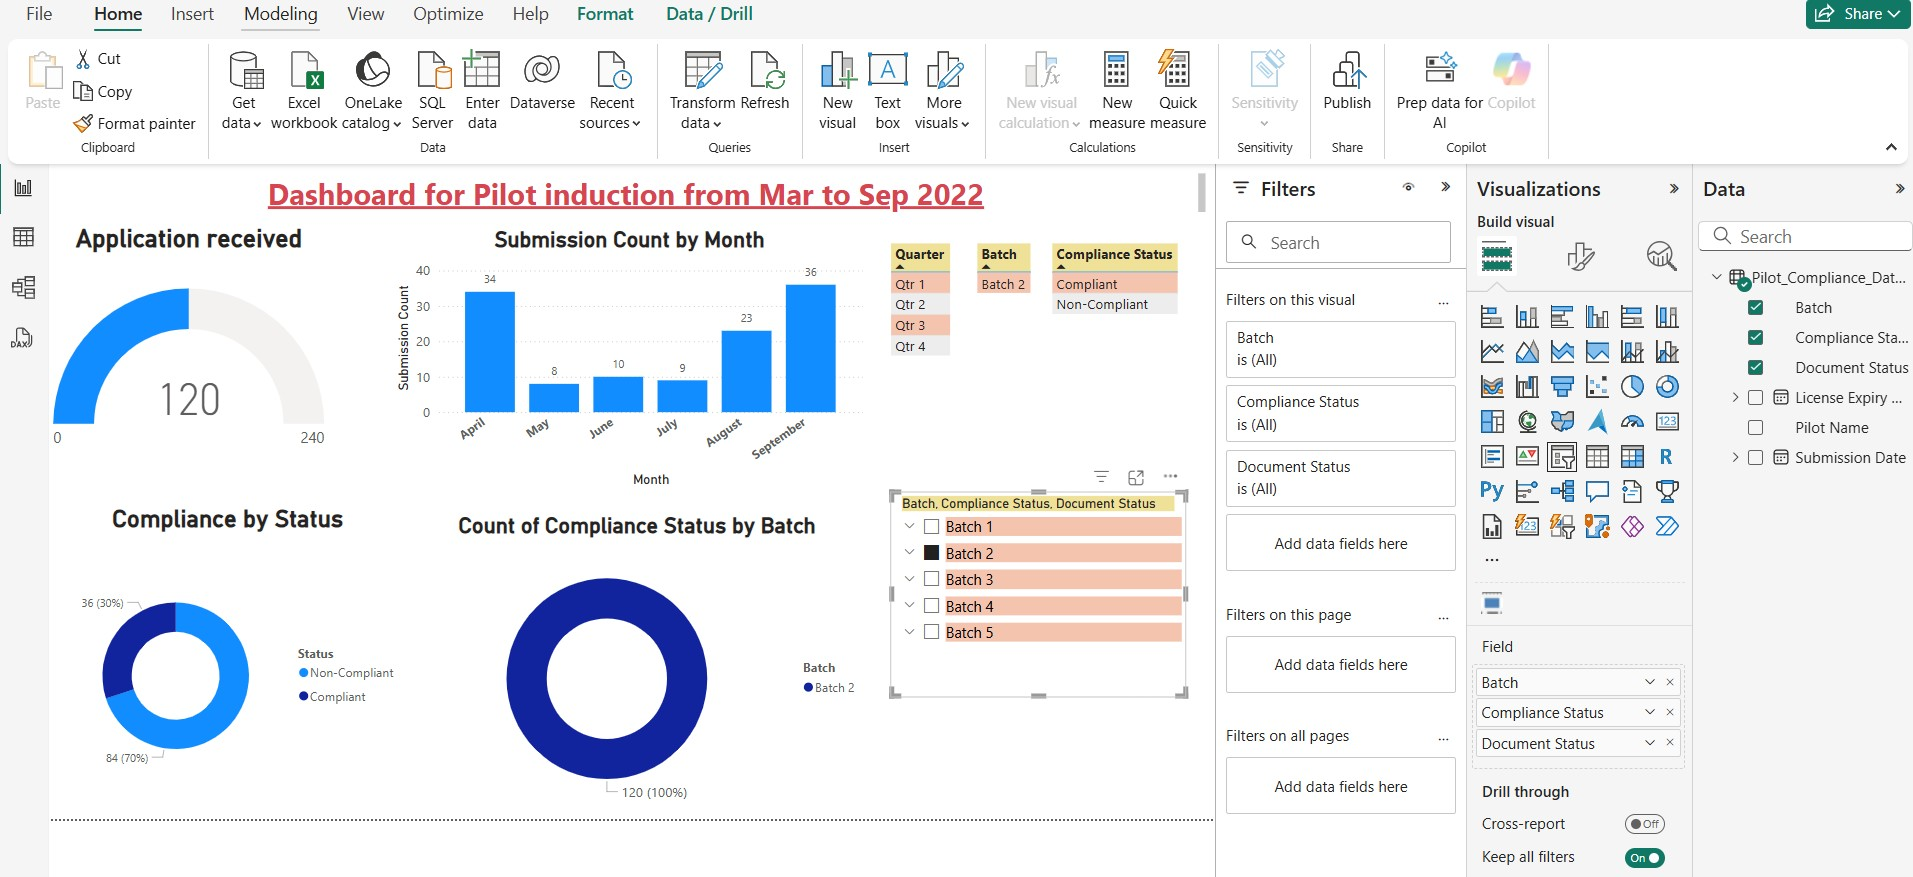

The dashboard page shown, as its layout file describes it:
{"tool":"powerbi","page":{"name":"Page 1","canvas":[1280,720],"ordinal":0},"visuals":[{"type":"donutChart","fields":{"Category":["export?format=csv&id=1RSt7JTLuaaMvQIgaXB1fvxA7Anrv1DO8XRaBTItq9nI&gid=177511 (2).Compliance Status"],"Y":["CountNonNull(export?format=csv&id=1RSt7JTLuaaMvQIgaXB1fvxA7Anrv1DO8XRaBTItq9nI&gid=177511 (2).Compliance Status)"]},"box":[0,373.2,392.5,347.2],"z":0},{"type":"columnChart","fields":{"Category":["export?format=csv&id=1RSt7JTLuaaMvQIgaXB1fvxA7Anrv1DO8XRaBTItq9nI&gid=177511 (2).Submission Date.Variation.Date Hierarch"],"Y":["CountNonNull(export?format=csv&id=1RSt7JTLuaaMvQIgaXB1fvxA7Anrv1DO8XRaBTItq9nI&gid=177511 (2).Submission Date)"]},"box":[376,68.6,522.8,290.9],"z":1000},{"type":"gauge","fields":{"Y":["CountNonNull(export?format=csv&id=1RSt7JTLuaaMvQIgaXB1fvxA7Anrv1DO8XRaBTItq9nI&gid=177511 (2).Submission Date)"]},"box":[0,65.9,307.4,290.9],"z":2000},{"type":"tableEx","fields":{"Values":["export?format=csv&id=1RSt7JTLuaaMvQIgaXB1fvxA7Anrv1DO8XRaBTItq9nI&gid=177511 (2).Compliance Status"]},"box":[1095,82.9,174.3,104.3],"z":3000},{"type":"slicer","fields":{"Values":["export?format=csv&id=1RSt7JTLuaaMvQIgaXB1fvxA7Anrv1DO8XRaBTItq9nI&gid=177511 (2).Batch","export?format=csv&id=1RSt7JTLuaaMvQIgaXB1fvxA7Anrv1DO8XRaBTItq9nI&gid=177511 (2).Compliance Status","export?format=csv&id=1RSt7JTLuaaMvQIgaXB1fvxA7Anrv1DO8XRaBTItq9nI&gid=177511 (2).Aircraft Rating"]},"box":[923.5,359.5,325.2,226.4],"z":4000},{"type":"tableEx","fields":{"Values":["export?format=csv&id=1RSt7JTLuaaMvQIgaXB1fvxA7Anrv1DO8XRaBTItq9nI&gid=177511 (2).Batch"]},"box":[1012.7,82.9,87.8,168.8],"z":5000},{"type":"donutChart","fields":{"Category":["export?format=csv&id=1RSt7JTLuaaMvQIgaXB1fvxA7Anrv1DO8XRaBTItq9nI&gid=177511 (2).Compliance Status"],"Y":["CountNonNull(export?format=csv&id=1RSt7JTLuaaMvQIgaXB1fvxA7Anrv1DO8XRaBTItq9nI&gid=177511 (2).Batch)","CountNonNull(export?format=csv&id=1RSt7JTLuaaMvQIgaXB1fvxA7Anrv1DO8XRaBTItq9nI&gid=177511 (2).Compliance Status)"]},"box":[392.5,382.8,506.3,337.6],"z":6000},{"type":"tableEx","fields":{"Values":["export?format=csv&id=1RSt7JTLuaaMvQIgaXB1fvxA7Anrv1DO8XRaBTItq9nI&gid=177511 (2).Submission Date.Variation.Date Hierarch"]},"box":[918,82.9,94.7,152.3],"z":7000},{"type":"textbox","box":[0,5.5,1274.8,60.4],"z":8000},{"type":"tableEx","fields":{"Values":["export?format=csv&id=1RSt7JTLuaaMvQIgaXB1fvxA7Anrv1DO8XRaBTItq9nI&gid=177511 (2).Aircraft Rating"]},"box":[1100.5,186.6,148.2,152.3],"z":9000},{"type":"actionButton","box":[0,0,100,40],"z":10000}]}

Visuals, with their boxes on the page's 1280x720 design canvas (x1, y1, x2, y2). These are canvas units, not pixel positions in the 1913x877 screenshot, which may show the page scaled, cropped or inside an application window:
donutChart - export?format=csv&id=1RSt7JTLuaaMvQIgaXB1fvxA7Anrv1DO8XRaBTItq9nI&gid=177511 (2).Compliance Status x CountNonNull(export?format=csv&id=1RSt7JTLuaaMvQIgaXB1fvxA7Anrv1DO8XRaBTItq9nI&gid=177511 (2).Compliance Status): left=0, top=373, right=392, bottom=720
columnChart - export?format=csv&id=1RSt7JTLuaaMvQIgaXB1fvxA7Anrv1DO8XRaBTItq9nI&gid=177511 (2).Submission Date.Variation.Date Hierarch x CountNonNull(export?format=csv&id=1RSt7JTLuaaMvQIgaXB1fvxA7Anrv1DO8XRaBTItq9nI&gid=177511 (2).Submission Date): left=376, top=69, right=899, bottom=360
gauge - CountNonNull(export?format=csv&id=1RSt7JTLuaaMvQIgaXB1fvxA7Anrv1DO8XRaBTItq9nI&gid=177511 (2).Submission Date): left=0, top=66, right=307, bottom=357
tableEx - export?format=csv&id=1RSt7JTLuaaMvQIgaXB1fvxA7Anrv1DO8XRaBTItq9nI&gid=177511 (2).Compliance Status: left=1095, top=83, right=1269, bottom=187
slicer - export?format=csv&id=1RSt7JTLuaaMvQIgaXB1fvxA7Anrv1DO8XRaBTItq9nI&gid=177511 (2).Batch x export?format=csv&id=1RSt7JTLuaaMvQIgaXB1fvxA7Anrv1DO8XRaBTItq9nI&gid=177511 (2).Compliance Status: left=924, top=360, right=1249, bottom=586
tableEx - export?format=csv&id=1RSt7JTLuaaMvQIgaXB1fvxA7Anrv1DO8XRaBTItq9nI&gid=177511 (2).Batch: left=1013, top=83, right=1100, bottom=252
donutChart - export?format=csv&id=1RSt7JTLuaaMvQIgaXB1fvxA7Anrv1DO8XRaBTItq9nI&gid=177511 (2).Compliance Status x CountNonNull(export?format=csv&id=1RSt7JTLuaaMvQIgaXB1fvxA7Anrv1DO8XRaBTItq9nI&gid=177511 (2).Batch): left=392, top=383, right=899, bottom=720
tableEx - export?format=csv&id=1RSt7JTLuaaMvQIgaXB1fvxA7Anrv1DO8XRaBTItq9nI&gid=177511 (2).Submission Date.Variation.Date Hierarch: left=918, top=83, right=1013, bottom=235
textbox: left=0, top=6, right=1275, bottom=66
tableEx - export?format=csv&id=1RSt7JTLuaaMvQIgaXB1fvxA7Anrv1DO8XRaBTItq9nI&gid=177511 (2).Aircraft Rating: left=1100, top=187, right=1249, bottom=339
actionButton: left=0, top=0, right=100, bottom=40
